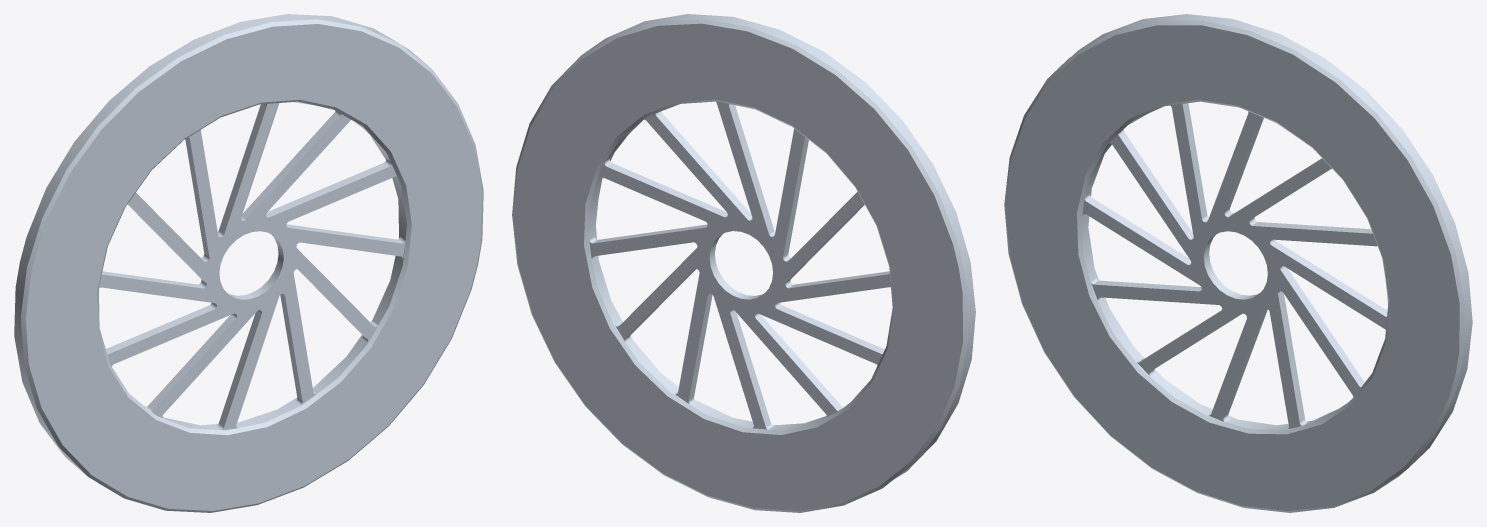
File: RB-002_viewer.glb
The picture shows the model from 3 angles, left to right: view 1: azimuth 30°, elevation 25°; view 2: azimuth 150°, elevation 25°; view 3: azimuth 330°, elevation 25°; orthographic projection.
Visible parts, largest first — view 1: basebody_imported1; view 2: basebody_imported1; view 3: basebody_imported1.
Boxes of the visible parts, x1,y1,x2,y2 form: basebody_imported1: [14, 14, 483, 512]; basebody_imported1: [512, 14, 975, 512]; basebody_imported1: [1004, 14, 1472, 512].
Size of the model in its own units: 0.0205 by 0.0205 by 0.00113.
